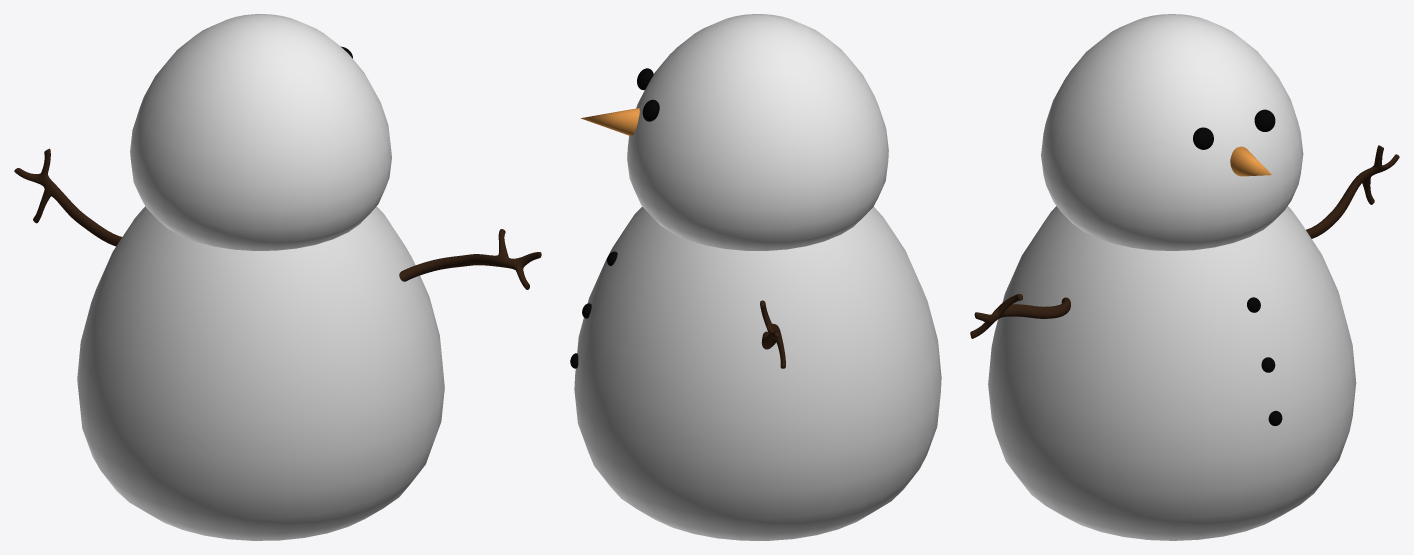
Rendered from MuñecosNieve.fbx.
3 renders of one model, left to right at view 1: azimuth 30°, elevation 25°; view 2: azimuth 150°, elevation 25°; view 3: azimuth 270°, elevation 25°, orthographic.
Visible parts, largest first — view 1: MN_Cuerpo, MN_Brazos; view 2: MN_Cuerpo, MN_BotOjos, MN_Nariz, MN_Brazos; view 3: MN_Cuerpo, MN_Brazos, MN_BotOjos, MN_Nariz.
Boxes of the visible parts, x1,y1,x2,y2 form: MN_Cuerpo: (77, 14, 444, 540); MN_Brazos: (14, 148, 541, 289); MN_Cuerpo: (574, 14, 941, 540); MN_BotOjos: (570, 68, 659, 368); MN_Nariz: (581, 108, 639, 136); MN_Brazos: (760, 300, 785, 368); MN_Cuerpo: (988, 14, 1356, 540); MN_Brazos: (970, 145, 1399, 338); MN_BotOjos: (1193, 109, 1282, 425); MN_Nariz: (1230, 146, 1271, 176).
Bounding box in the file's own units: 140 × 187 × 152.
